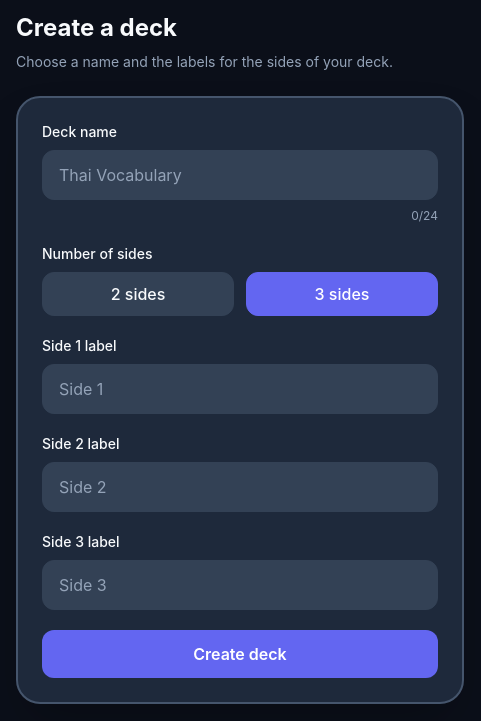
Test: DeckEditView › shows the specified title length error before saving
This screenshot has width=481, height=721.
In the field with id "deck-name": (240, 175) [42,150,438,200], type "1234567890123456789012345"
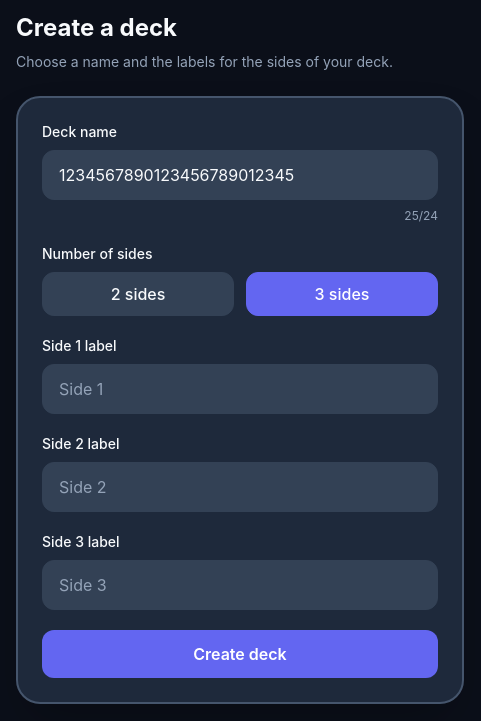
In the field with id "side-label-1": (240, 389) [42,364,438,414], type "Script"
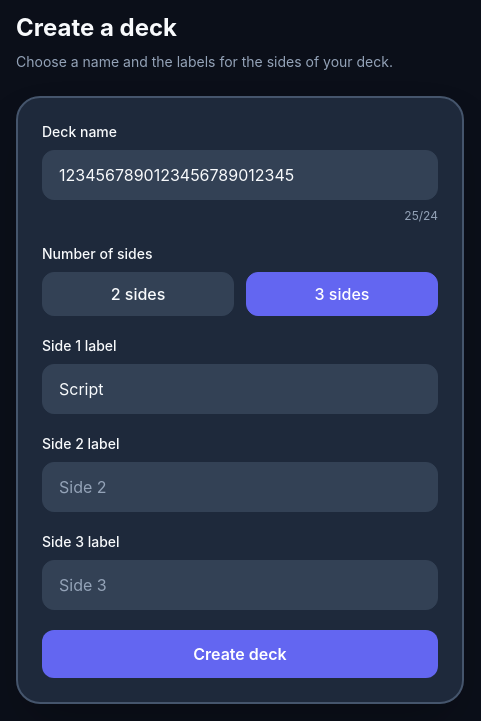
In the field with id "side-label-2": (240, 487) [42,462,438,512], type "Meaning"
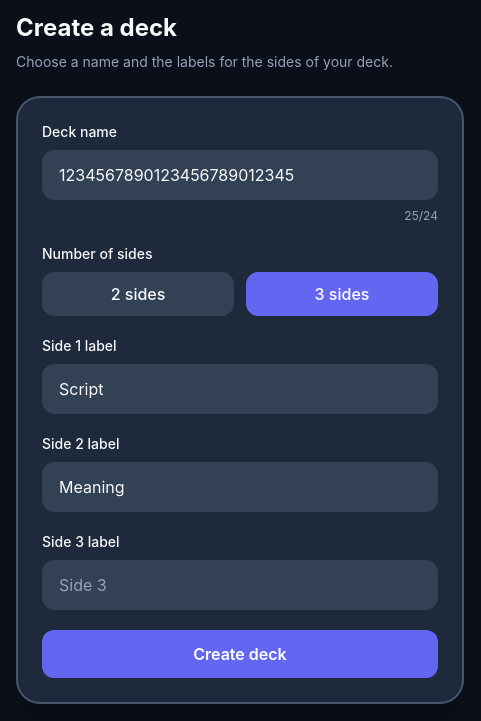
In the field with id "side-label-3": (240, 585) [42,560,438,610], type "Thai"
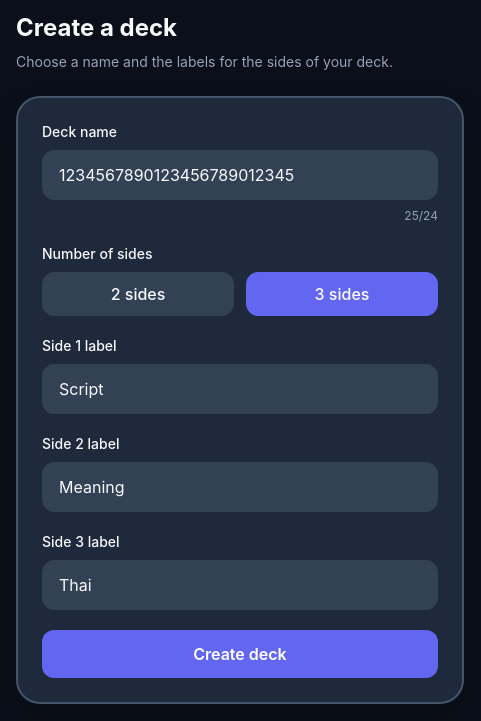
Submit the form
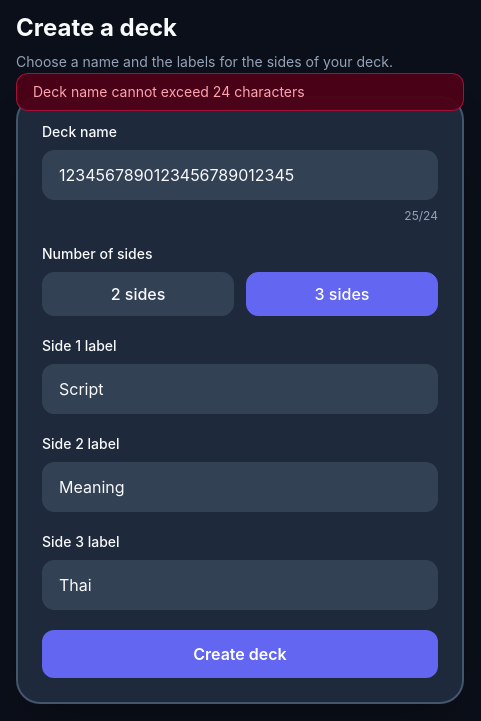
Expected: the message "Deck name cannot exceed 24 characters" is shown, [33,83,305,100]
